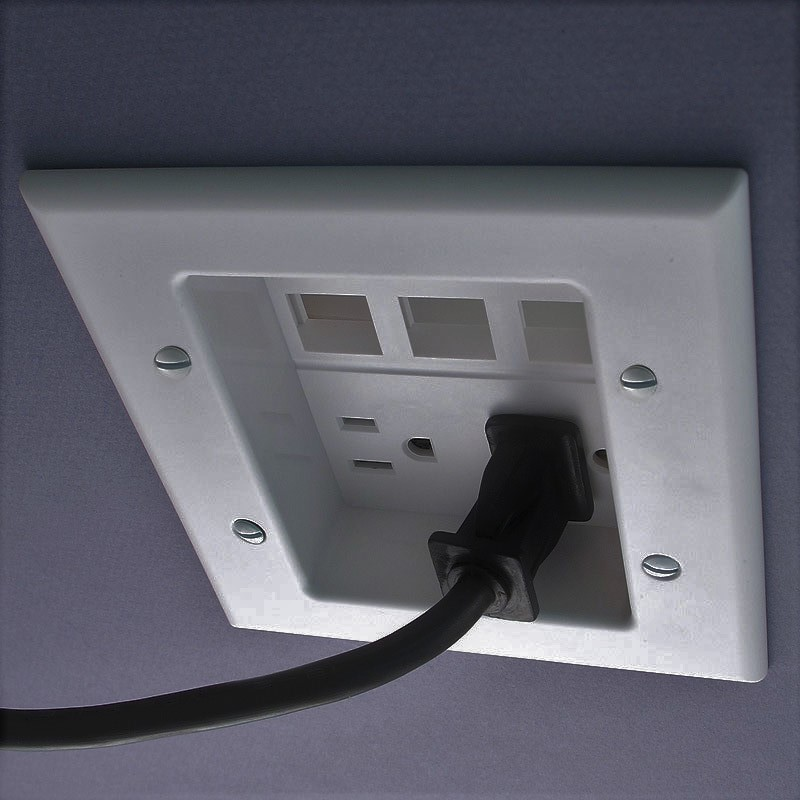outlet: (329, 408, 445, 485)
